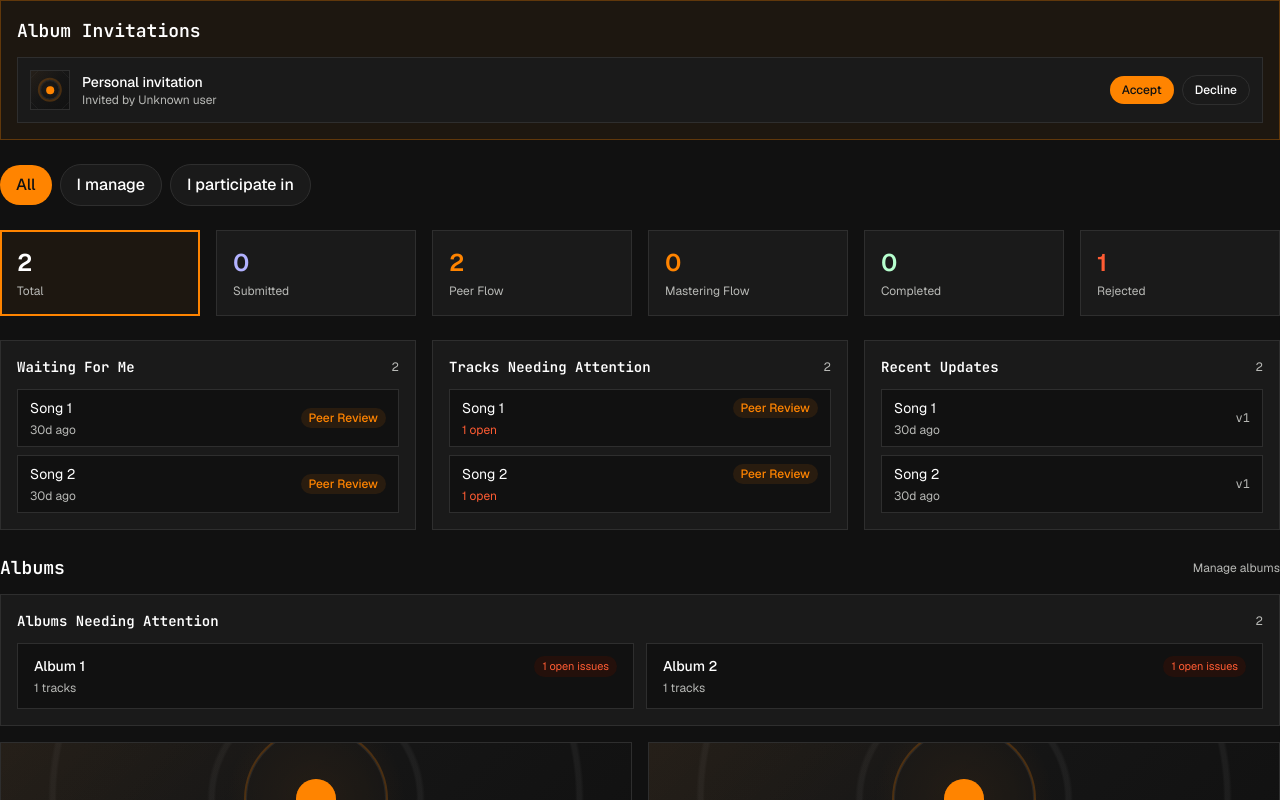
Scenario: Dashboard personal scope › ignores late successes and failures after a newer scope finishes
Click the button "I manage" at (111, 185), box [60,164,162,206]
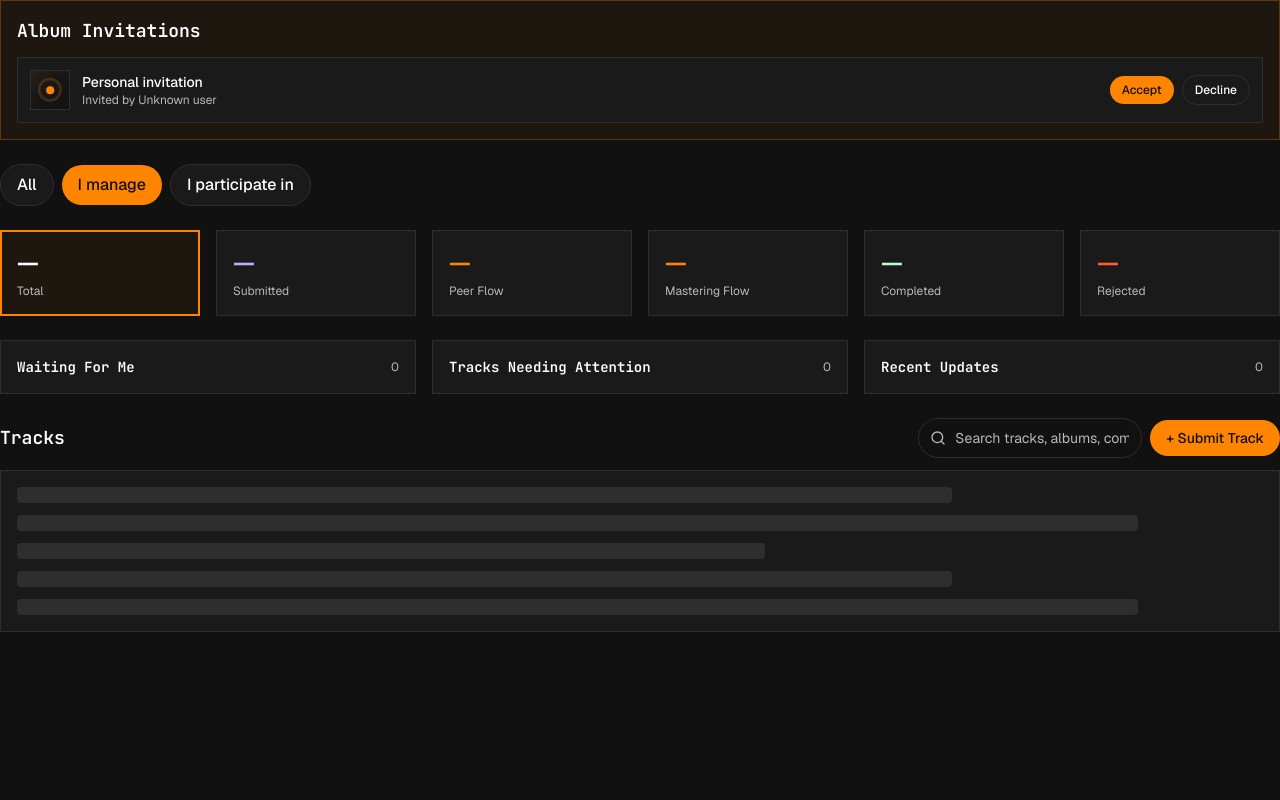
Click the button "I participate in" at (240, 185), box [170,164,311,206]
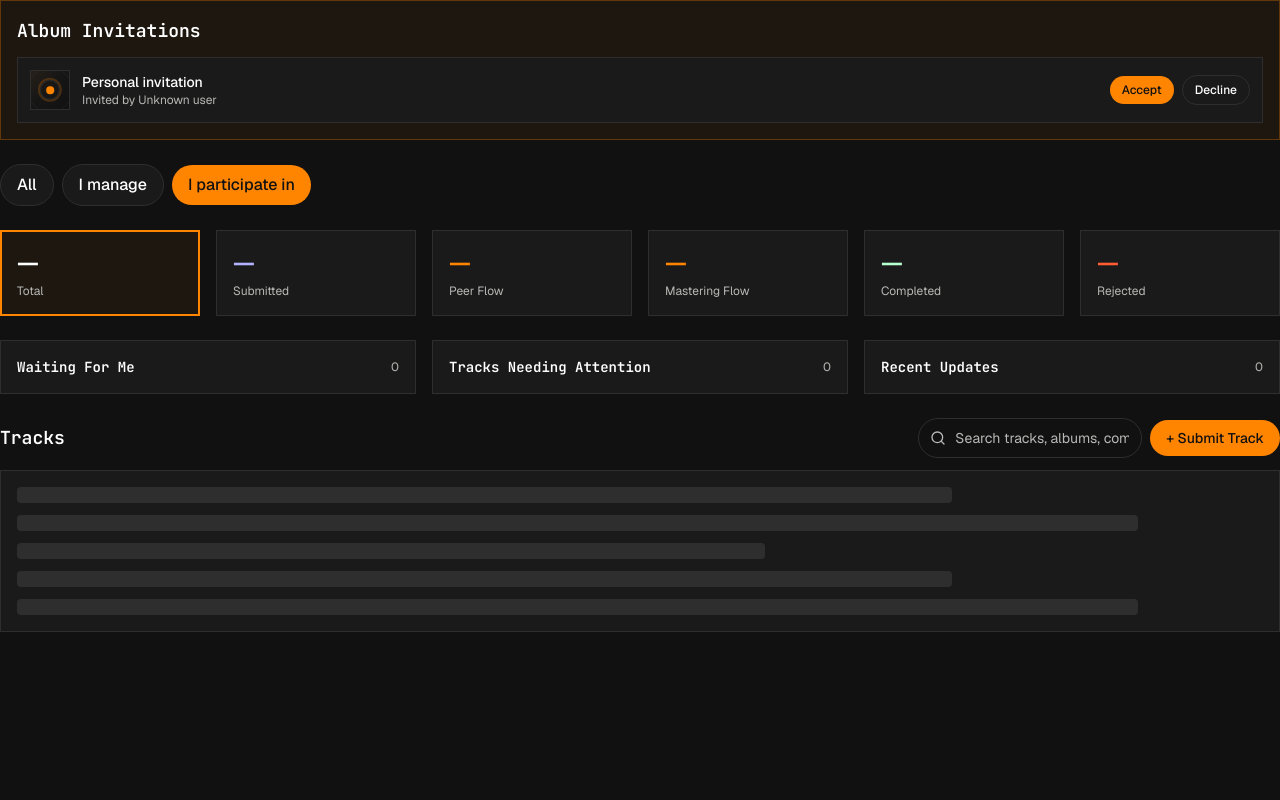
Click the button "All" at (27, 185), box [0,164,54,206]
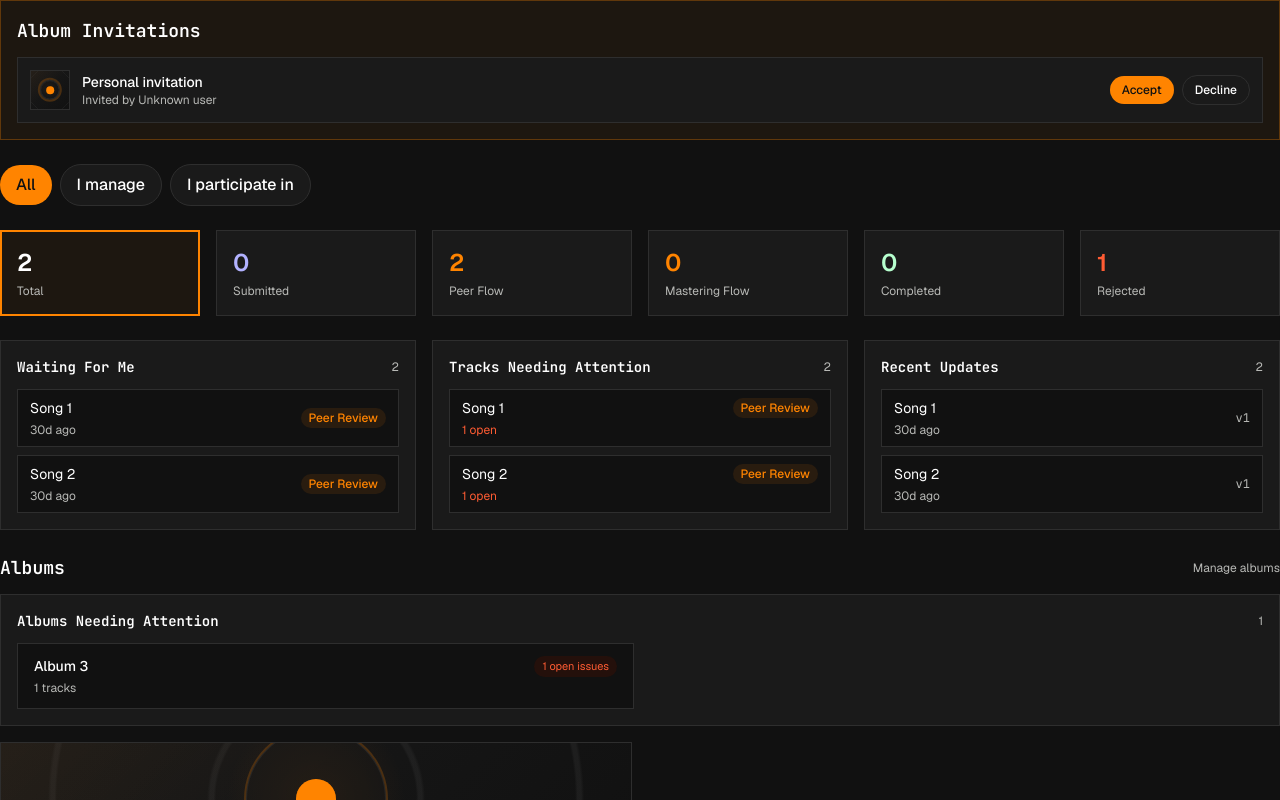
Now the text "Album 3" is shown, box [34,656,88,676]
